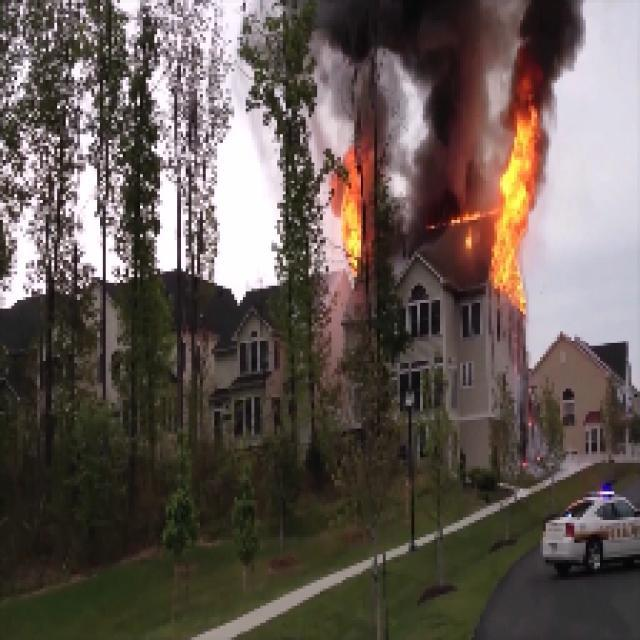Fire: (496, 120, 544, 294)
Smoke: (334, 9, 489, 209), (518, 12, 580, 90)
